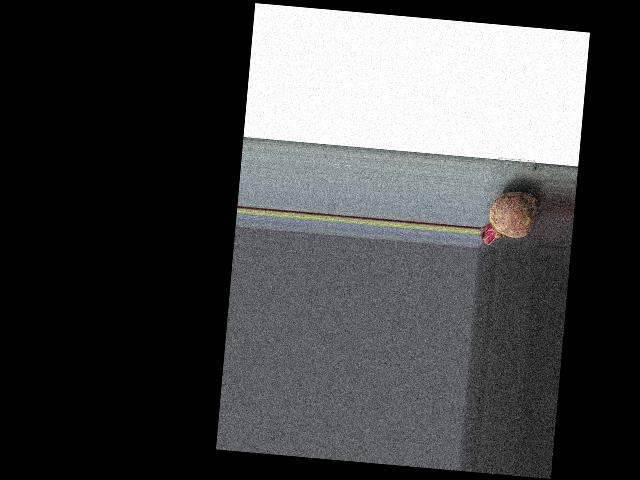beet: (478, 188, 539, 248)
